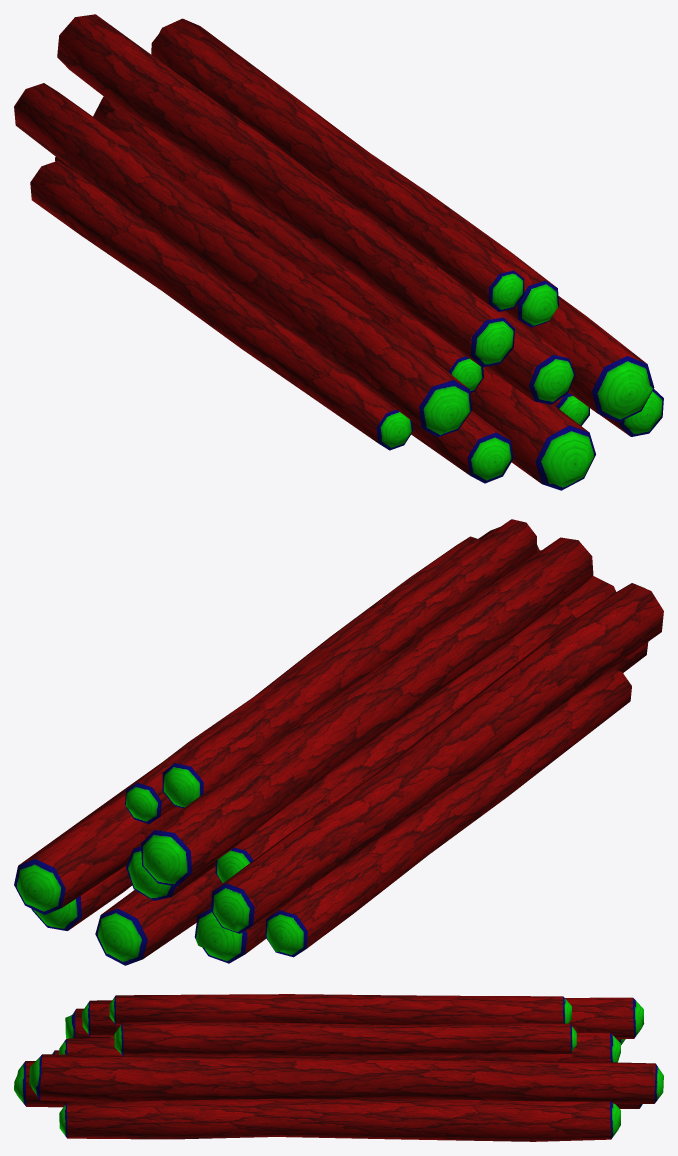
File: LogPile03.fbx
3 renders of one model, top to bottom at view 1: azimuth 30°, elevation 25°; view 2: azimuth 150°, elevation 25°; view 3: azimuth 270°, elevation 25°, orthographic. The views are drawn at different scales.
Visible parts, largest first — view 1: LogPile03_LOD0; view 2: LogPile03_LOD0; view 3: LogPile03_LOD0.
Part boxes in pixels (x1,y1,x2,y2): LogPile03_LOD0: [14, 14, 663, 490]; LogPile03_LOD0: [14, 519, 663, 965]; LogPile03_LOD0: [14, 994, 663, 1141].
Size of what is drawn, in the model's own units: 0.8752 by 0.5548 by 2.92.
